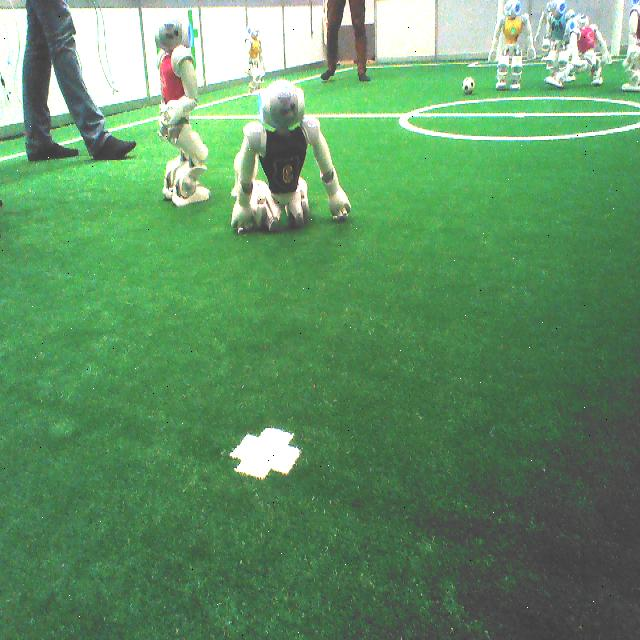ball: (458, 71, 478, 100)
goalpost: (610, 0, 625, 57), (494, 0, 505, 61)
